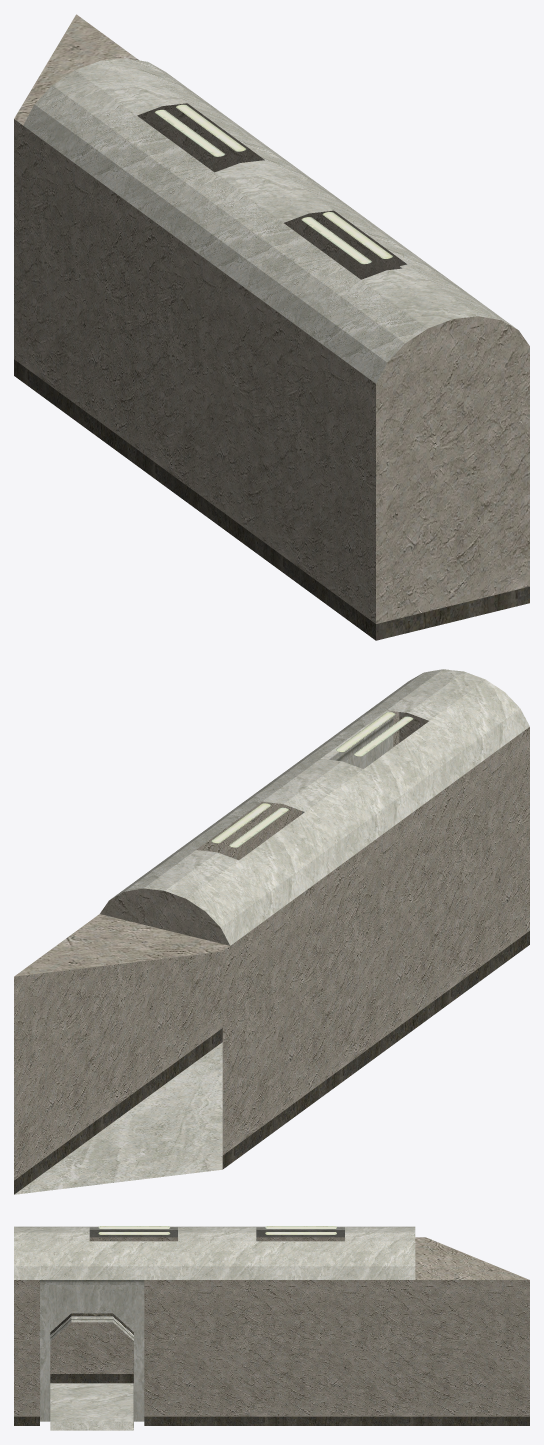
Rendered from ply_corl_assoc_hall_civ_s01_r3_halla_mesh_r3.fbx.
3 views of the same model, one above another, from view 1: azimuth 30°, elevation 25°; view 2: azimuth 150°, elevation 25°; view 3: azimuth 270°, elevation 25° (orthographic). The views are drawn at different scales.
Parts seen in each view (by area): view 1: mesh_node; view 2: mesh_node; view 3: mesh_node.
Part boxes in pixels (left/top/right/bottom): mesh_node: left=14, top=14, right=529, bottom=640; mesh_node: left=14, top=669, right=529, bottom=1194; mesh_node: left=14, top=1226, right=529, bottom=1430.
Bounding box in the file's own units: 2.68 × 4.61 × 12.38.
